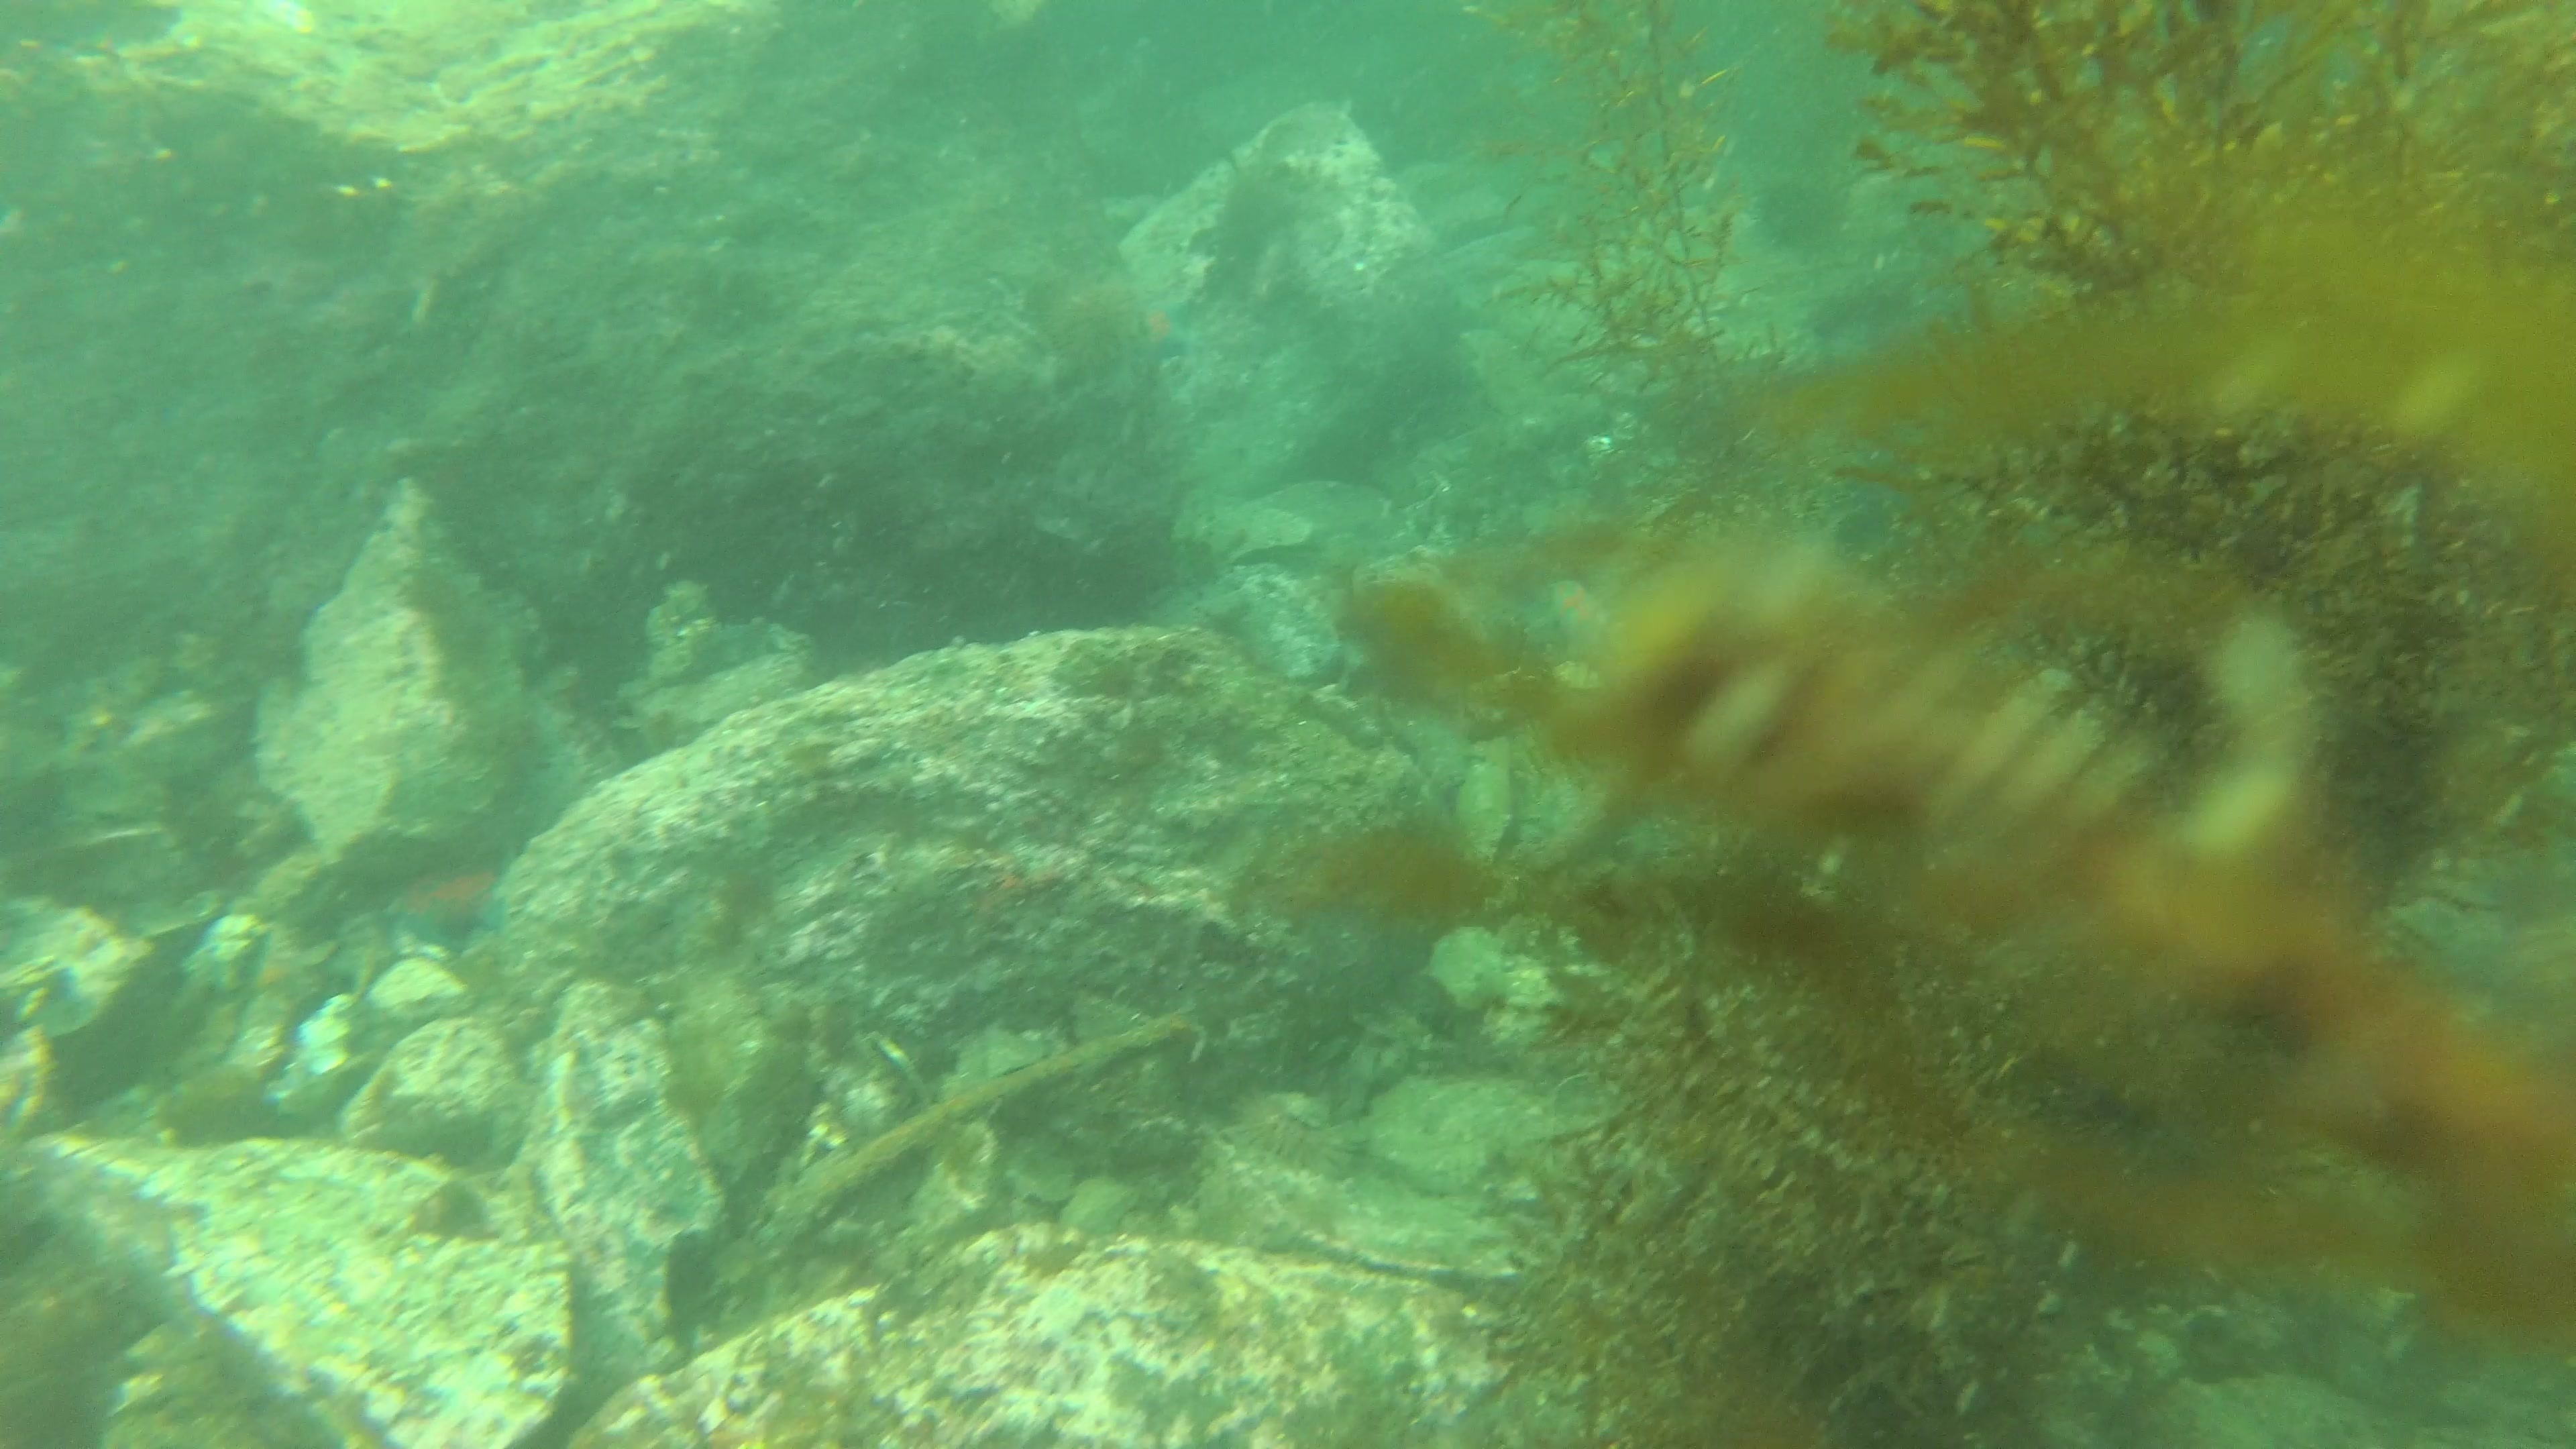echinus: (1026, 257, 1157, 384), (1233, 1081, 1346, 1185)
starfish: (1127, 276, 1207, 370), (237, 948, 297, 1003)
